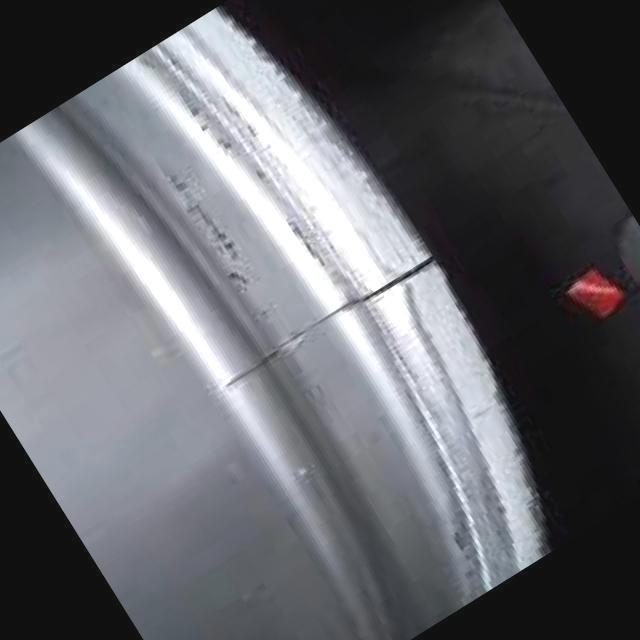defect: (219, 255, 440, 393)
